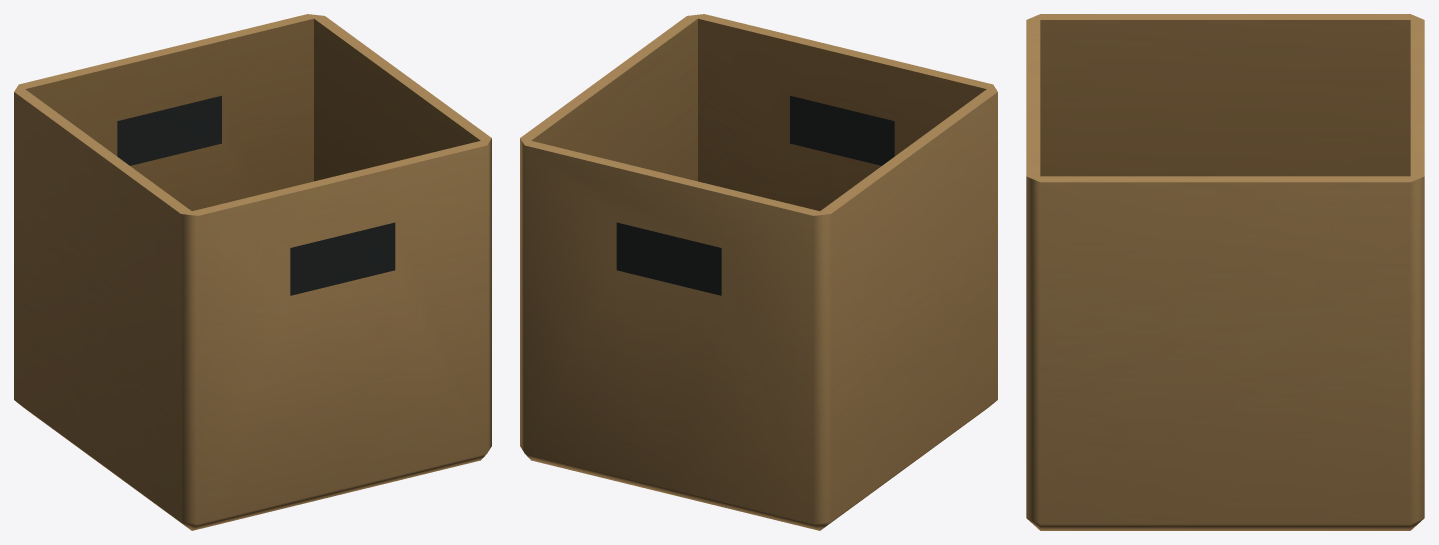
The model's file is box_cardboard_large_square_open_handle.fbx.
3 views of the same model, side by side, from view 1: azimuth 30°, elevation 25°; view 2: azimuth 150°, elevation 25°; view 3: azimuth 270°, elevation 25° (orthographic). The views are drawn at different scales.
Visible parts, largest first — view 1: box_cardboard_large_square_open_handle; view 2: box_cardboard_large_square_open_handle; view 3: box_cardboard_large_square_open_handle.
Boxes of the visible parts, x1,y1,x2,y2 form: box_cardboard_large_square_open_handle: (14, 14, 491, 530); box_cardboard_large_square_open_handle: (520, 14, 997, 530); box_cardboard_large_square_open_handle: (1026, 14, 1424, 530).
Bounding box in the file's own units: 104 × 102 × 104.
